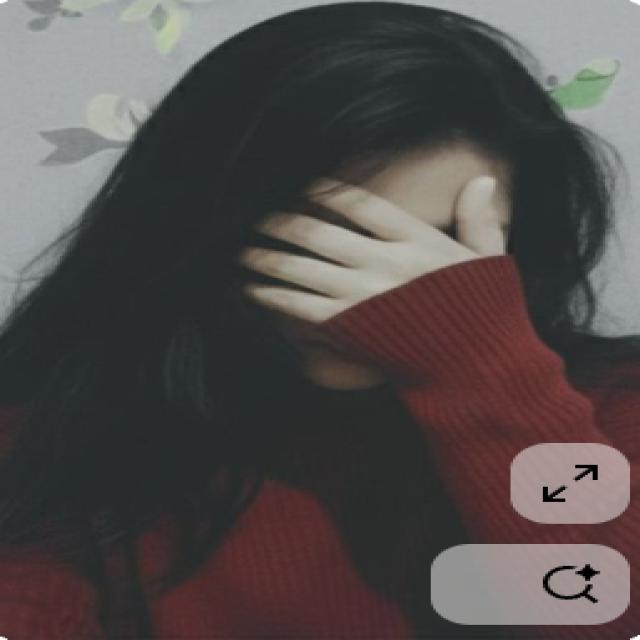7_mano_rostro: (256, 175, 554, 392)
